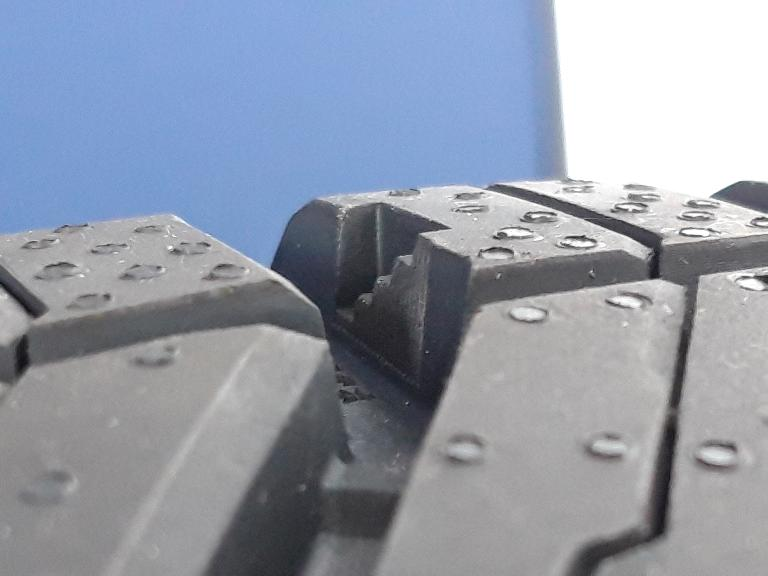temoin:100: (330, 200, 455, 388)
